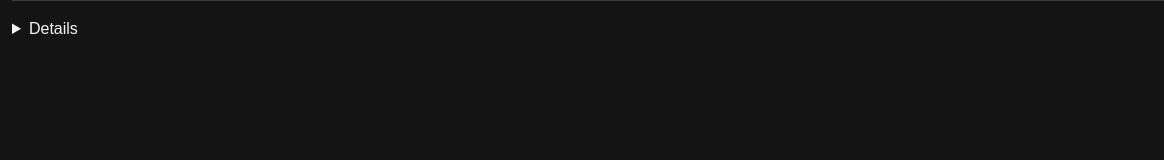
Test: component behavior › starts collapses closed and permits opening
Click the heading "Details" at (53, 28), box [29,20,78,37]
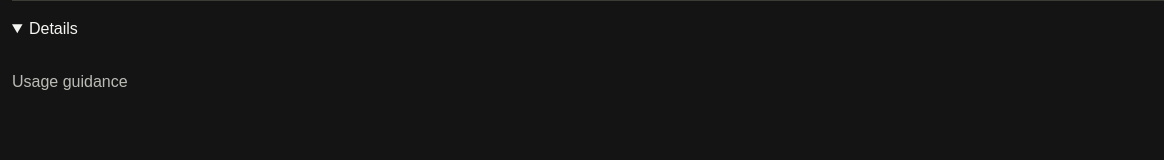
Expected: the text "Details" has attribute open
